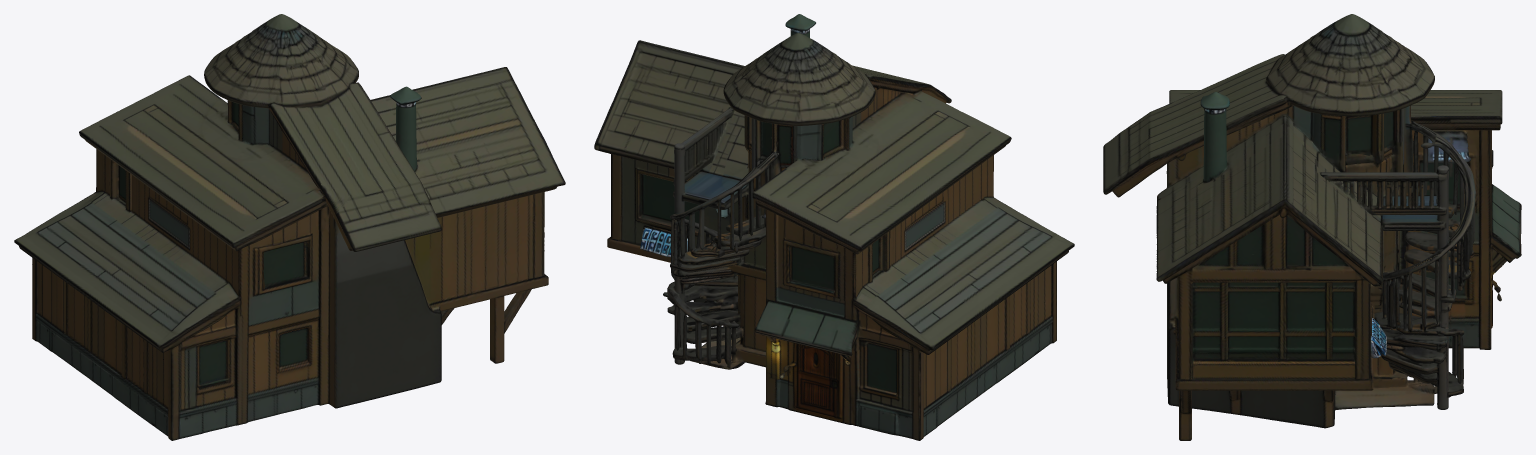
File: FoxyHouse.fbx
3 views of the same model, side by side, from view 1: azimuth 30°, elevation 25°; view 2: azimuth 150°, elevation 25°; view 3: azimuth 270°, elevation 25° (orthographic). The views are drawn at different scales.
Visible parts, largest first — view 1: tripo_node_5fc32f7c; view 2: tripo_node_5fc32f7c; view 3: tripo_node_5fc32f7c.
Boxes of the visible parts, x1,y1,x2,y2 form: tripo_node_5fc32f7c: (14,14,565,440); tripo_node_5fc32f7c: (594,14,1074,440); tripo_node_5fc32f7c: (1103,14,1521,440).
Bounding box in the file's own units: 1 × 0.7812 × 0.8403.
